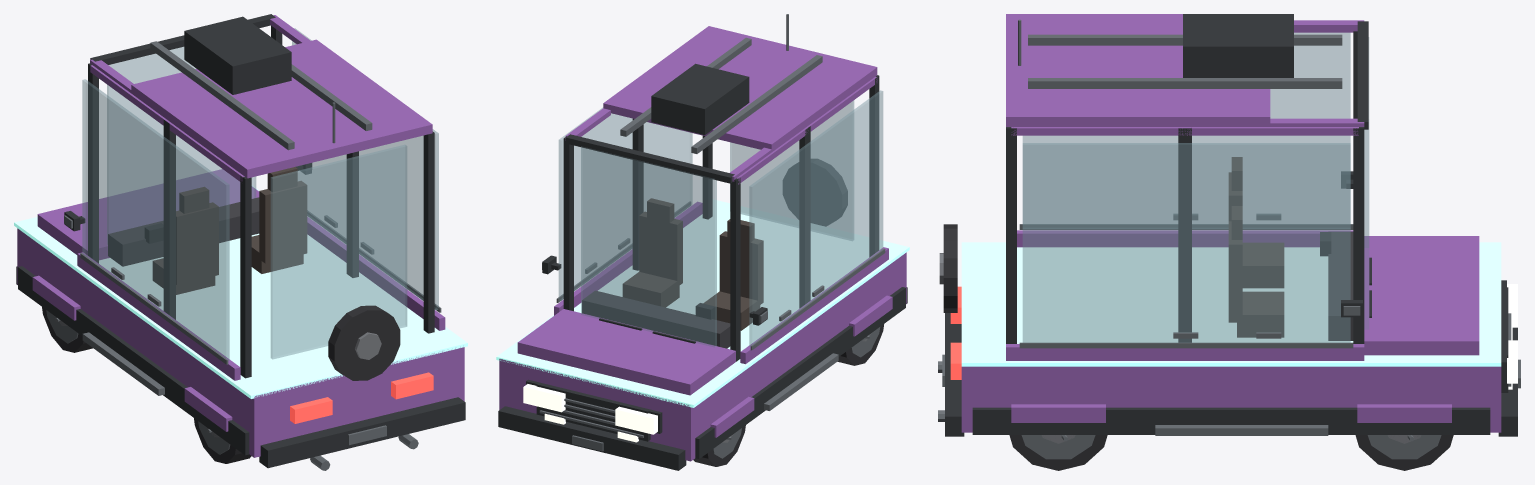
File: suv.glb
The picture shows the model from 3 angles, left to right: view 1: azimuth 30°, elevation 25°; view 2: azimuth 150°, elevation 25°; view 3: azimuth 270°, elevation 25°; orthographic projection. The views are drawn at different scales.
Parts seen in each view (by area): view 1: SUV_GlassSideL, SUV_GlassR, SUV_Lip, SUV_Roof, SUV_Hull, SUV_GlassSideR, SUV_GlassF, SUV_RoofBox, SUV_Hood, SUV_BumperR, SUV_Cladding, SUV_Spare (+28 smaller); view 2: SUV_GlassF, SUV_GlassSideL, SUV_Lip, SUV_Roof, SUV_GlassSideR, SUV_Hull, SUV_Hood, SUV_GlassR, SUV_RoofBox, SUV_Dash, SUV_BumperF, SUV_Cladding (+29 smaller); view 3: SUV_GlassSideR, SUV_Lip, SUV_GlassSideL, SUV_Hull, SUV_Roof, SUV_Hood, SUV_Cladding, SUV_RoofBox, SUV_SillL, SUV_SillR, SUV_RoofRailR, SUV_RailR (+24 smaller).
Boxes of the visible parts, bbox=[...] form: SUV_GlassSideL: bbox=[82, 79, 229, 360]; SUV_GlassR: bbox=[270, 144, 407, 359]; SUV_Lip: bbox=[14, 185, 467, 398]; SUV_Roof: bbox=[131, 39, 432, 178]; SUV_Hull: bbox=[17, 228, 464, 457]; SUV_GlassSideR: bbox=[292, 28, 438, 310]; SUV_GlassF: bbox=[107, 47, 256, 244]; SUV_RoofBox: bbox=[184, 16, 291, 94]; SUV_Hood: bbox=[37, 169, 259, 260]; SUV_BumperR: bbox=[259, 397, 465, 468]; SUV_Cladding: bbox=[18, 266, 249, 455]; SUV_Spare: bbox=[328, 305, 400, 380]; SUV_GlassF: bbox=[581, 146, 716, 347]; SUV_GlassSideL: bbox=[749, 90, 883, 346]; SUV_Lip: bbox=[496, 199, 909, 407]; SUV_Roof: bbox=[603, 26, 877, 151]; SUV_GlassSideR: bbox=[558, 107, 692, 300]; SUV_Hull: bbox=[499, 252, 906, 461]; SUV_Hood: bbox=[517, 309, 735, 395]; SUV_GlassR: bbox=[730, 100, 854, 240]; SUV_RoofBox: bbox=[651, 63, 749, 135]; SUV_Dash: bbox=[582, 290, 730, 348]; SUV_BumperF: bbox=[498, 406, 686, 470]; SUV_Cladding: bbox=[695, 287, 905, 458]; SUV_GlassSideR: bbox=[1022, 143, 1350, 342]; SUV_Lip: bbox=[961, 242, 1501, 366]; SUV_GlassSideL: bbox=[1022, 32, 1350, 228]; SUV_Hull: bbox=[961, 366, 1501, 432]; SUV_Roof: bbox=[1006, 14, 1270, 126]; SUV_Hood: bbox=[1364, 236, 1479, 355]; SUV_Cladding: bbox=[972, 407, 1490, 434]; SUV_RoofBox: bbox=[1183, 14, 1293, 77]; SUV_SillL: bbox=[1017, 230, 1353, 247]; SUV_SillR: bbox=[1006, 344, 1364, 360]; SUV_RoofRailR: bbox=[1028, 78, 1342, 88]; SUV_RailR: bbox=[1011, 127, 1358, 135].
Bounding box in the file's own units: 2.29 × 3.14 × 4.21.
